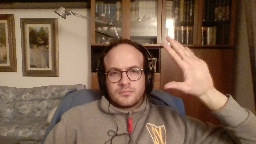Mano_aperta: (156, 34, 214, 99)
